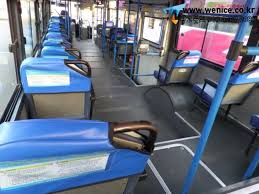seat: (5, 101, 150, 189)
